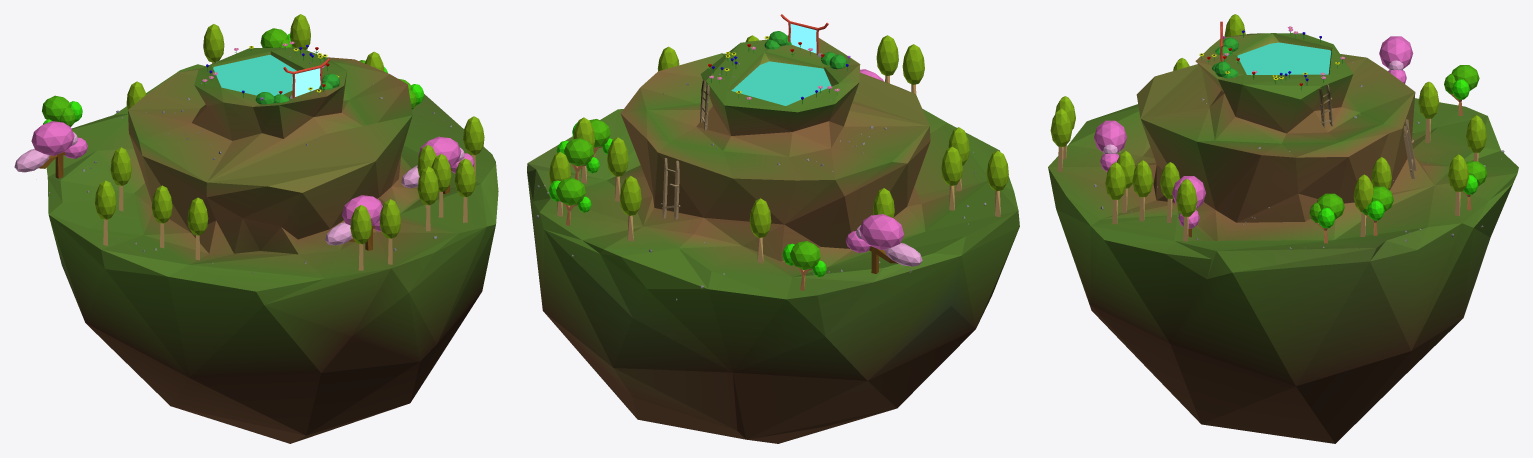
3 renders of one model, left to right at view 1: azimuth 30°, elevation 25°; view 2: azimuth 150°, elevation 25°; view 3: azimuth 270°, elevation 25°, orthographic. The views are drawn at different scales.
Visible parts, largest first — view 1: Island.013, Water.013, Tree3 - 2.049, Tree3 - 2.047, Tree3 - 2.048, Tree1 - 2.064, Tree2 - 2.107, Tree2 - 2.113, Tree2 - 2.110, Tree2 - 2.112, Tree2 - 2.105, Tree2 - 2.100 (+8 smaller); view 2: Island.013, Water.013, Tree3 - 2.049, Tree1 - 2.064, Tree1 - 2.063, Tree1 - 2.062, Tree2 - 2.110, Tree2 - 2.103, Tree2 - 2.111, Tree2 - 2.104, Tree2 - 2.102, Tree2 - 2.113 (+8 smaller); view 3: Island.013, Water.013, Tree3 - 2.047, Tree3 - 2.049, Tree1 - 2.064, Tree1 - 2.061, Tree2 - 2.107, Tree2 - 2.108, Tree2 - 2.105, Tree1 - 2.062, Tree2 - 2.101, Tree2 - 2.111 (+8 smaller).
Part boxes in pixels (x1,y1,x2,y2): Island.013: (46,47,498,443); Water.013: (213,55,296,96); Tree3 - 2.049: (14,121,87,178); Tree3 - 2.047: (325,195,382,250); Tree3 - 2.048: (401,136,474,193); Tree1 - 2.064: (42,95,82,126); Tree2 - 2.107: (379,199,401,264); Tree2 - 2.113: (350,205,371,270); Tree2 - 2.110: (95,180,116,245); Tree2 - 2.112: (417,166,438,231); Tree2 - 2.105: (454,158,475,222); Tree2 - 2.100: (110,147,131,211); Island.013: (527,38,1019,443); Water.013: (731,61,831,105); Tree3 - 2.049: (845,214,922,273); Tree1 - 2.064: (782,241,826,290); Tree1 - 2.063: (549,177,591,225); Tree1 - 2.062: (556,138,599,180); Tree2 - 2.110: (986,150,1008,216); Tree2 - 2.103: (619,175,641,241); Tree2 - 2.111: (749,198,771,263); Tree2 - 2.104: (941,146,962,210); Tree2 - 2.102: (607,137,628,201); Tree2 - 2.113: (902,44,924,94); Island.013: (1048,33,1518,443); Water.013: (1237,42,1331,74); Tree3 - 2.047: (1094,120,1127,171); Tree3 - 2.049: (1379,36,1413,83); Tree1 - 2.064: (1444,65,1479,115); Tree1 - 2.061: (1309,193,1344,243); Tree2 - 2.107: (1050,108,1072,171); Tree2 - 2.108: (1176,179,1197,241); Tree2 - 2.105: (1105,162,1126,224); Tree1 - 2.062: (1362,186,1393,235); Tree2 - 2.101: (1448,154,1468,215); Tree2 - 2.111: (1418,81,1439,142).
Bounding box in the file's own units: 41.96 × 39.87 × 43.73.
